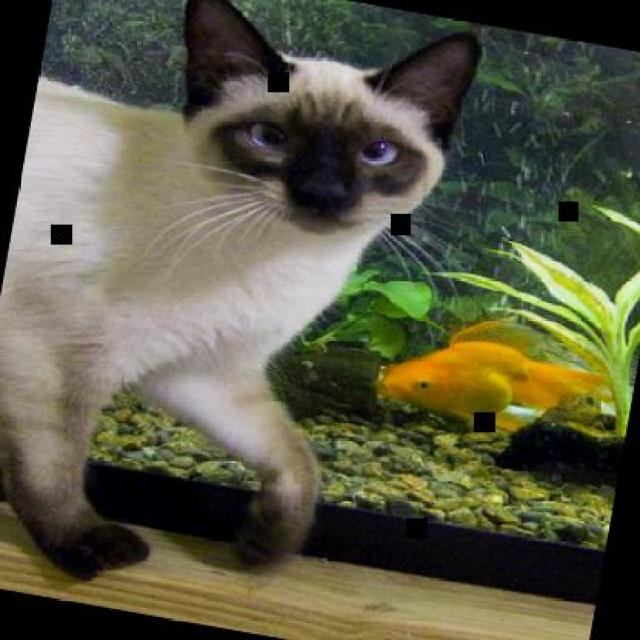cat: (0, 0, 488, 634)
